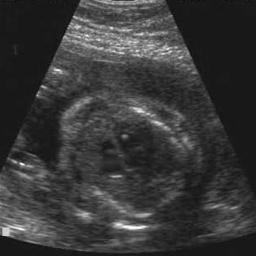abnormal: (62, 92, 208, 224)
